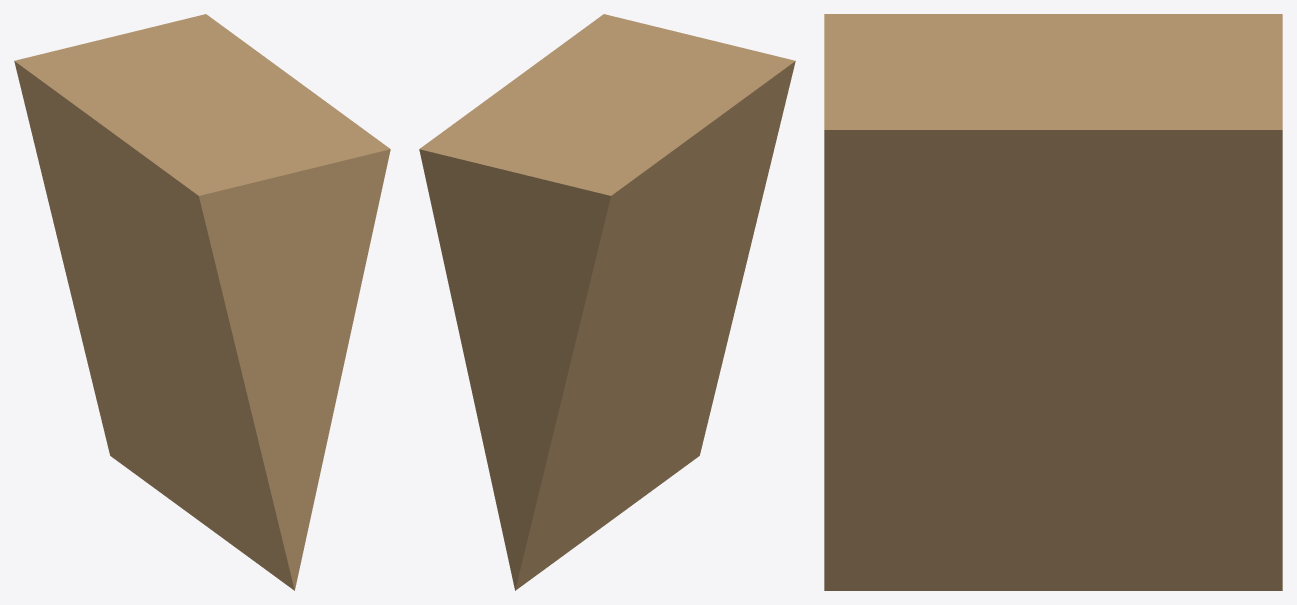
File: prop-felling-axe-wedge-ax1.fbx
The picture shows the model from 3 angles, left to right: view 1: azimuth 30°, elevation 25°; view 2: azimuth 150°, elevation 25°; view 3: azimuth 270°, elevation 25°; orthographic projection. The views are drawn at different scales.
Visible parts, largest first — view 1: prop-felling-axe-wedge-ax1; view 2: prop-felling-axe-wedge-ax1; view 3: prop-felling-axe-wedge-ax1.
Boxes of the visible parts, <box> form: prop-felling-axe-wedge-ax1: <box>14,14,390,590</box>; prop-felling-axe-wedge-ax1: <box>419,14,795,590</box>; prop-felling-axe-wedge-ax1: <box>824,14,1282,590</box>.
Bounding box in the file's own units: 2.4 × 5 × 4.
